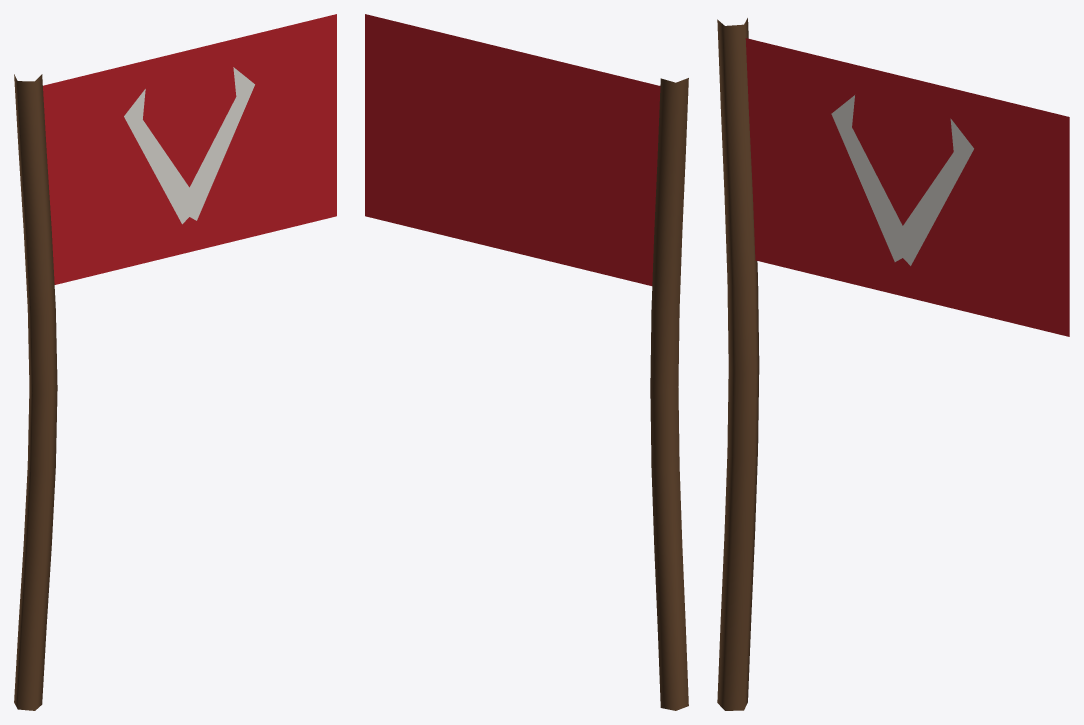
File: flag_prieurs.glb
3 views of the same model, side by side, from view 1: azimuth 30°, elevation 25°; view 2: azimuth 150°, elevation 25°; view 3: azimuth 330°, elevation 25° (orthographic). The views are drawn at different scales.
Visible parts, largest first — view 1: flag_prieurs; view 2: flag_prieurs; view 3: flag_prieurs.
Part boxes in pixels (left/top/right/bottom): flag_prieurs: left=14, top=14, right=336, bottom=710; flag_prieurs: left=365, top=14, right=688, bottom=710; flag_prieurs: left=717, top=18, right=1069, bottom=710.
Size of the model in its own units: 7.49 by 14.03 by 0.6427.
